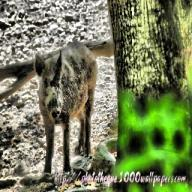boar: (33, 40, 97, 174)
